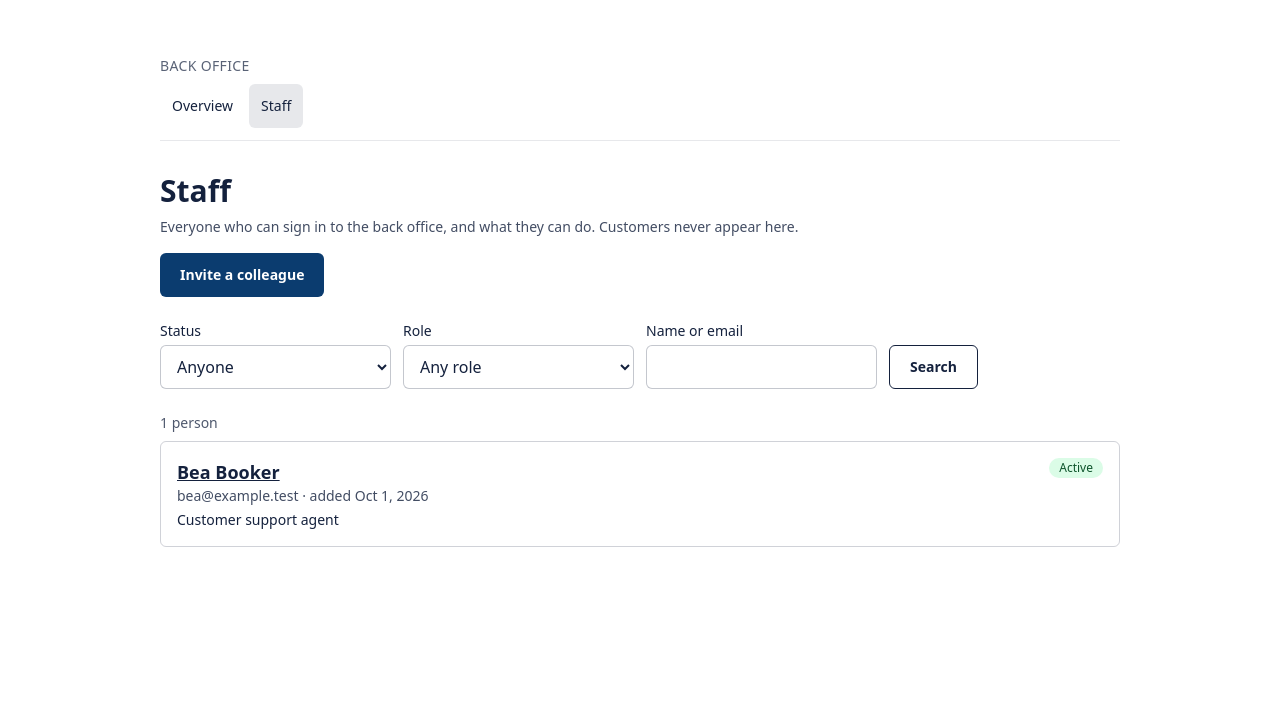
Test: staff list › inviting › keeps the super administrator role from people who aren't one
What coordinates should you click on to do the following:
click the button "Invite a colleague"
I would click on:
 (242, 275)
Its box is [160,253,324,297].
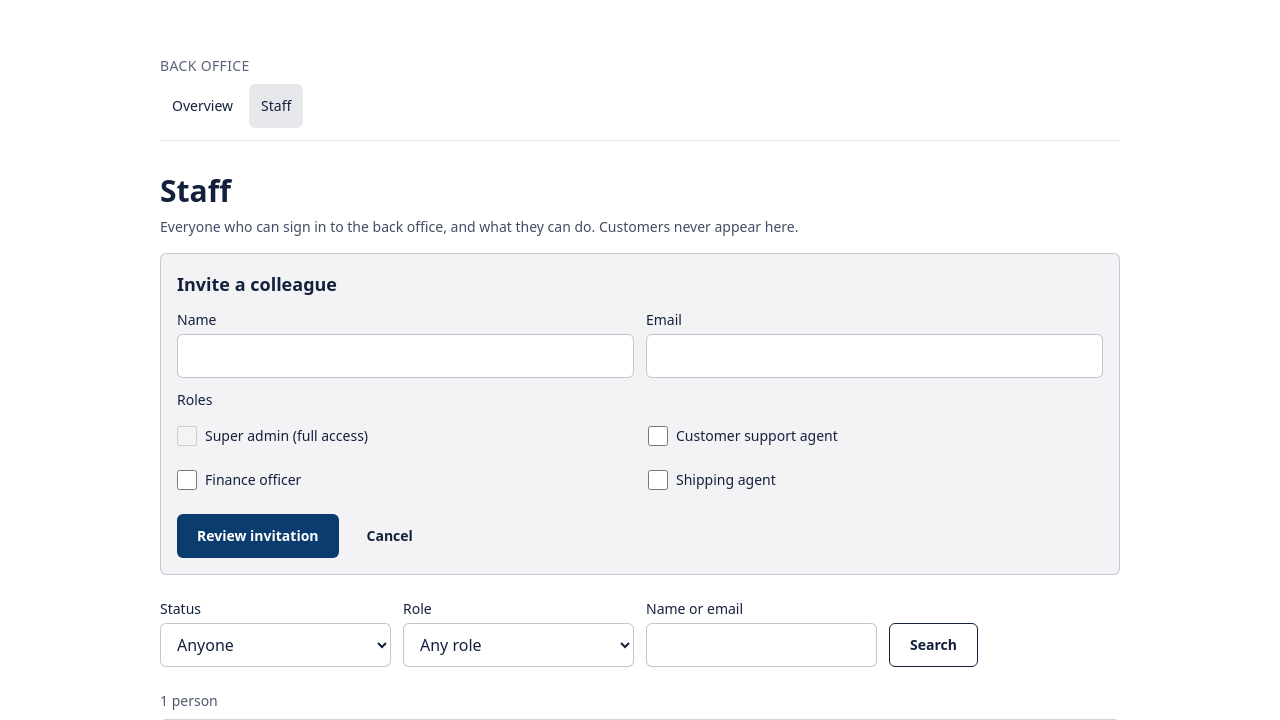
Expected: the checkbox labelled "Super admin (full access)" is disabled, [177,426,197,446]
